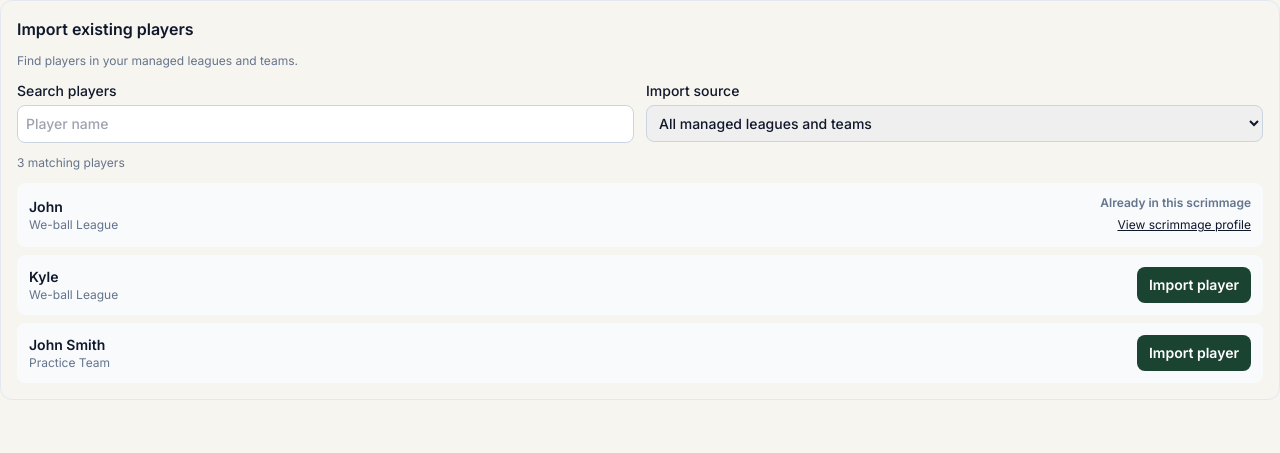
Test case: imports Kyle with the correct source and refreshes its imported marker
Click the button "Import player" in the row of "Kyle": (1194, 285) [1137,267,1251,303]
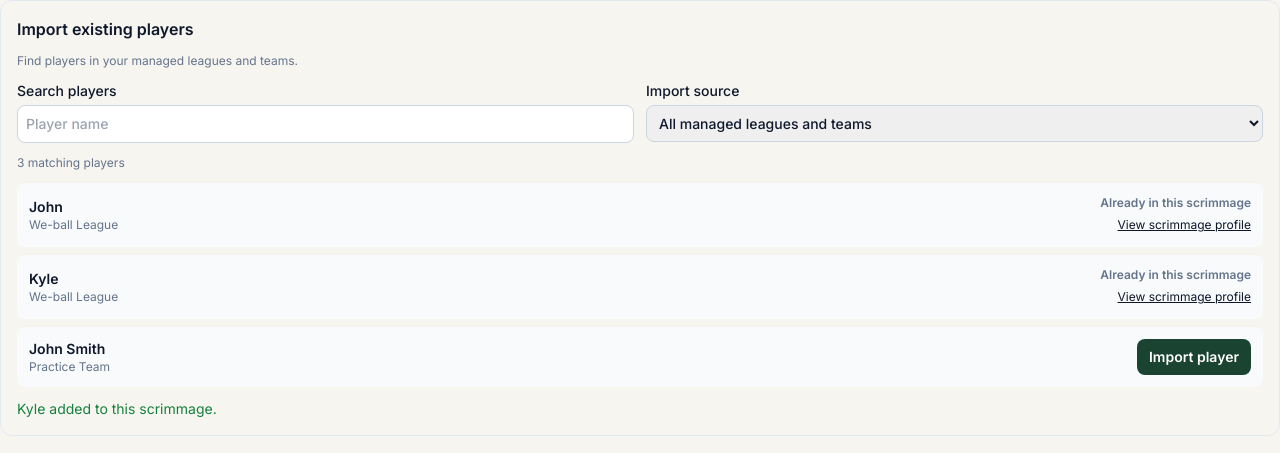
Expected: the 2nd text "Already in this scrimmage" is shown, [1100,267,1251,283]
